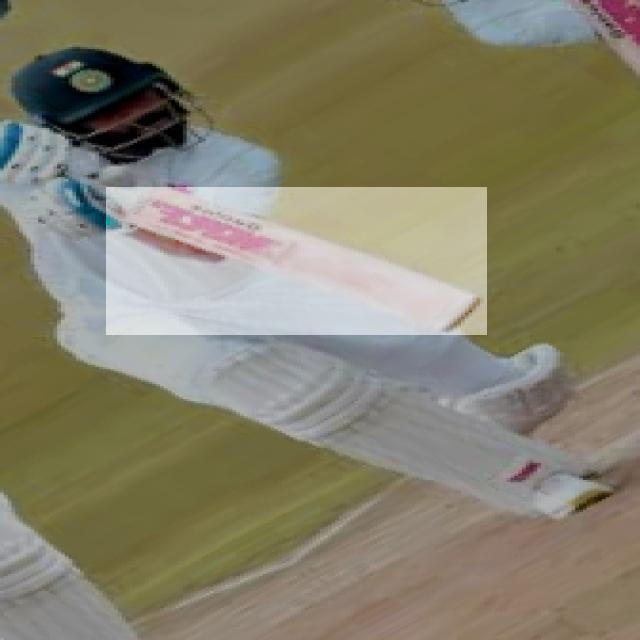bat: (105, 188, 488, 337)
toe: (439, 296, 490, 338)
